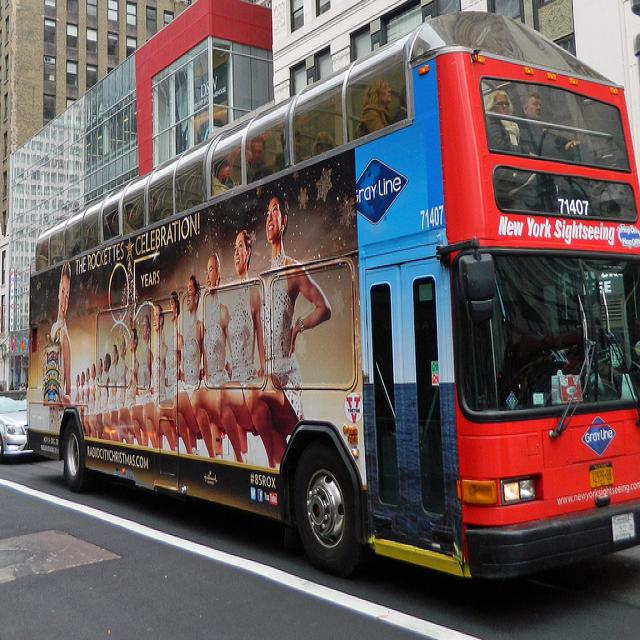Vehicle: (24, 9, 639, 584), (0, 396, 34, 456)
